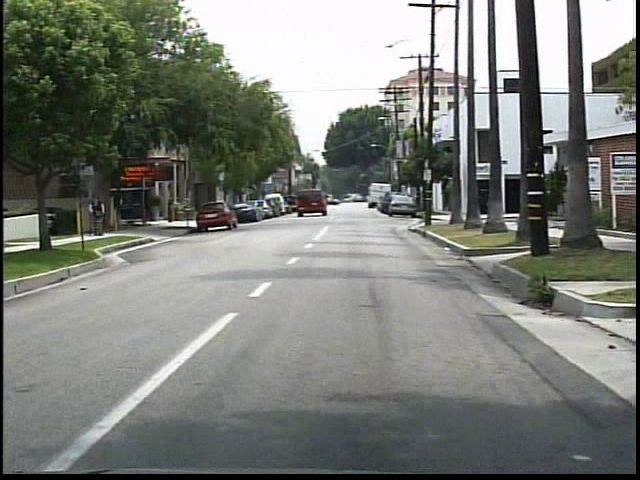person: (82, 192, 107, 239)
